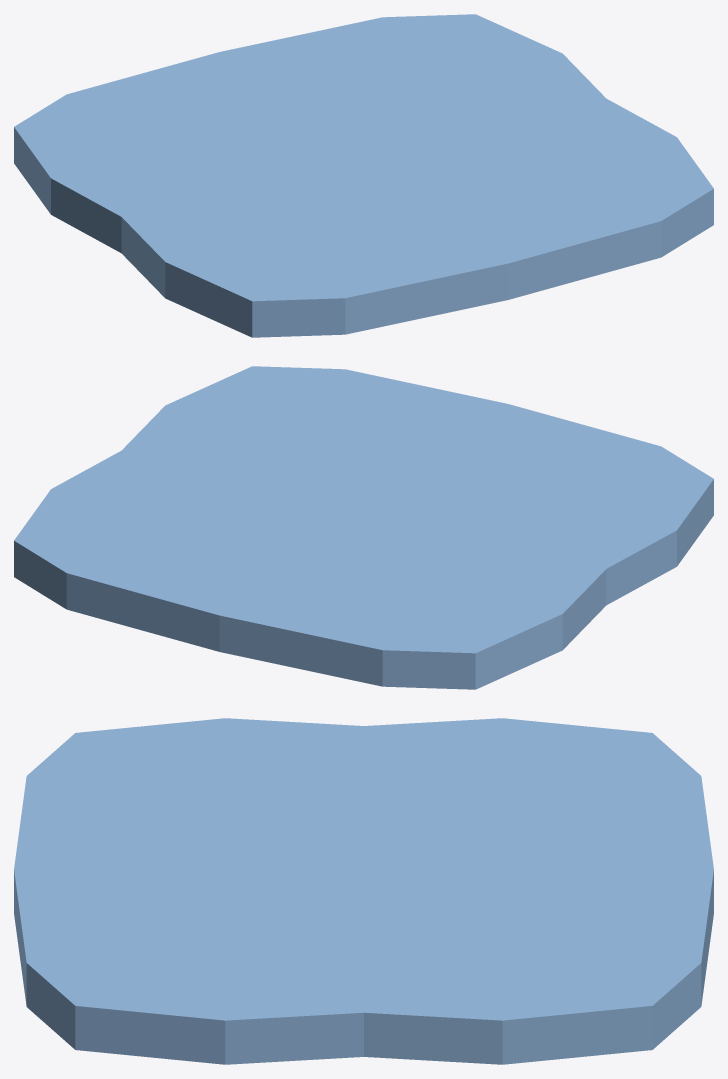
Rendered from icesheet.glb.
The picture shows the model from 3 angles, top to bottom: view 1: azimuth 30°, elevation 25°; view 2: azimuth 150°, elevation 25°; view 3: azimuth 270°, elevation 25°; orthographic projection. The views are drawn at different scales.
Parts seen in each view (by area): view 1: Plane; view 2: Plane; view 3: Plane.
Boxes of the visible parts, x1,y1,x2,y2 form: Plane: (14,14,713,337); Plane: (14,366,713,689); Plane: (14,718,713,1064).
Bounding box in the file's own units: 2.17 × 0.1477 × 2.12.
